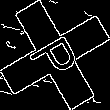P_NE: (24, 26, 86, 84)
